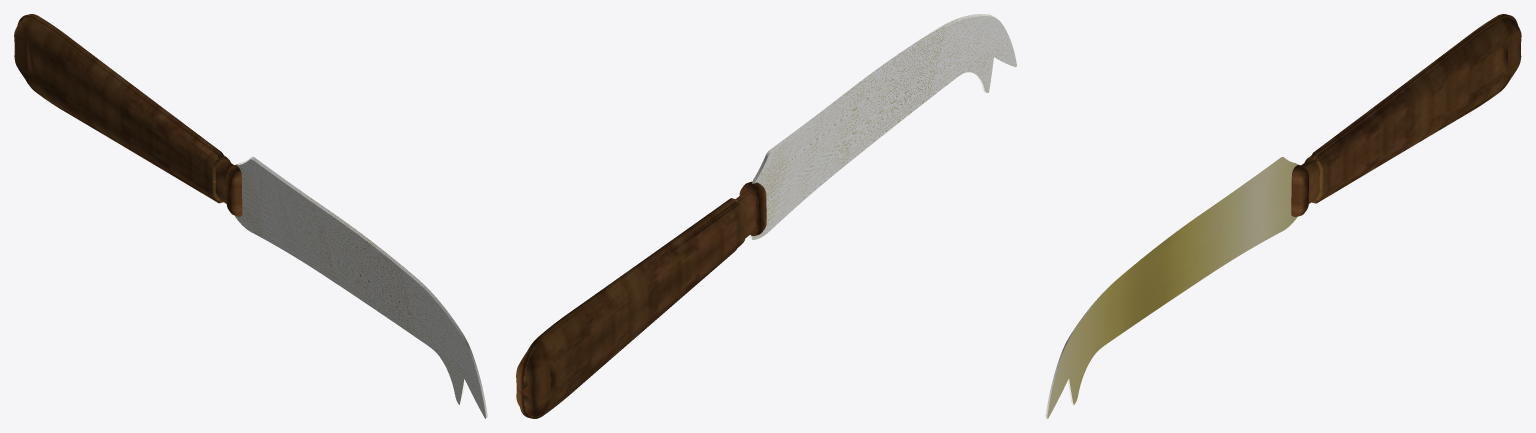
The model's file is model_align.obj.
3 renders of one model, left to right at view 1: azimuth 30°, elevation 25°; view 2: azimuth 150°, elevation 25°; view 3: azimuth 330°, elevation 25°, orthographic. The views are drawn at different scales.
Parts seen in each view (by area): view 1: mesh17_mesh17-geometry, mesh2_mesh2-geometry, mesh1_mesh1-geometry; view 2: mesh17_mesh17-geometry, mesh2_mesh2-geometry, mesh1_mesh1-geometry; view 3: mesh17_mesh17-geometry, mesh2_mesh2-geometry, mesh1_mesh1-geometry.
Boxes of the visible parts, left/top/right/bottom form: mesh17_mesh17-geometry: left=235, top=156, right=487, bottom=418; mesh2_mesh2-geometry: left=14, top=14, right=233, bottom=203; mesh1_mesh1-geometry: left=226, top=164, right=242, bottom=216; mesh17_mesh17-geometry: left=749, top=14, right=1016, bottom=239; mesh2_mesh2-geometry: left=516, top=191, right=756, bottom=418; mesh1_mesh1-geometry: left=739, top=181, right=766, bottom=235; mesh17_mesh17-geometry: left=1045, top=157, right=1297, bottom=418; mesh2_mesh2-geometry: left=1301, top=14, right=1521, bottom=203; mesh1_mesh1-geometry: left=1291, top=164, right=1308, bottom=216.
Bounding box in the file's own units: 0.00576 × 0.0281 × 0.2428.
